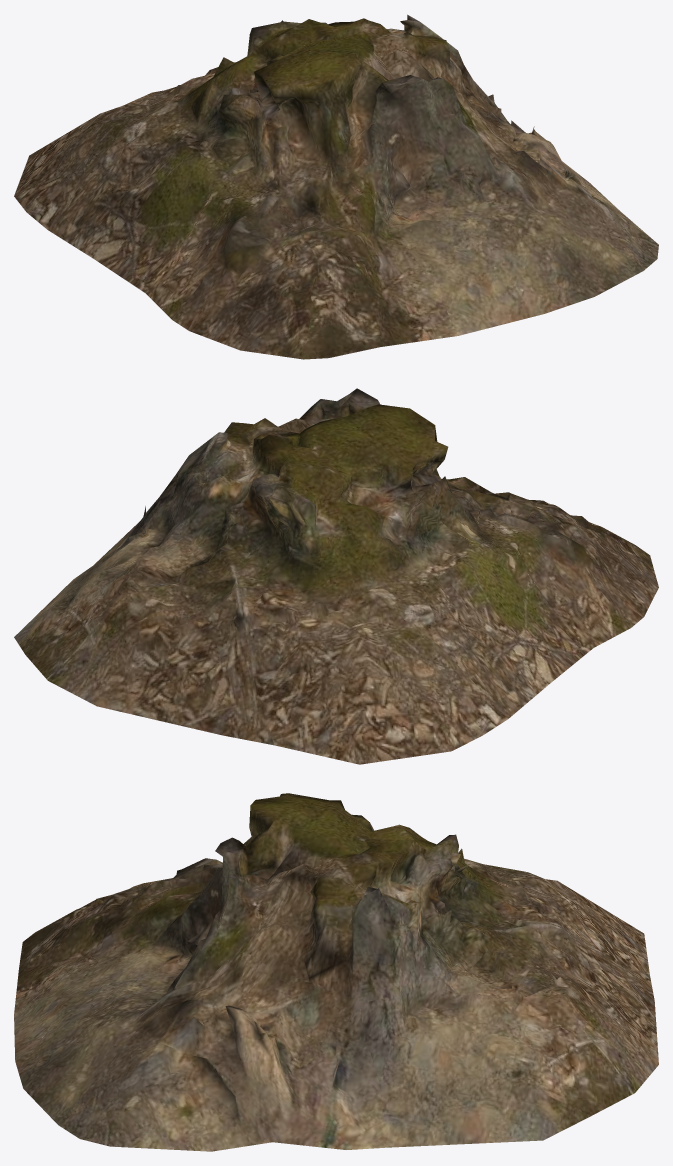
Rendered from tree_stump_01.glb.
3 renders of one model, top to bottom at view 1: azimuth 30°, elevation 25°; view 2: azimuth 150°, elevation 25°; view 3: azimuth 270°, elevation 25°, orthographic. The views are drawn at different scales.
Parts seen in each view (by area): view 1: tree_stump_01; view 2: tree_stump_01; view 3: tree_stump_01.
Boxes of the visible parts, x1,y1,x2,y2 form: tree_stump_01: (14,14,658,359); tree_stump_01: (14,388,658,764); tree_stump_01: (14,793,658,1151).
Bounding box in the file's own units: 1.43 × 0.57 × 1.59.
Materials: 1 (1 with a texture image).
